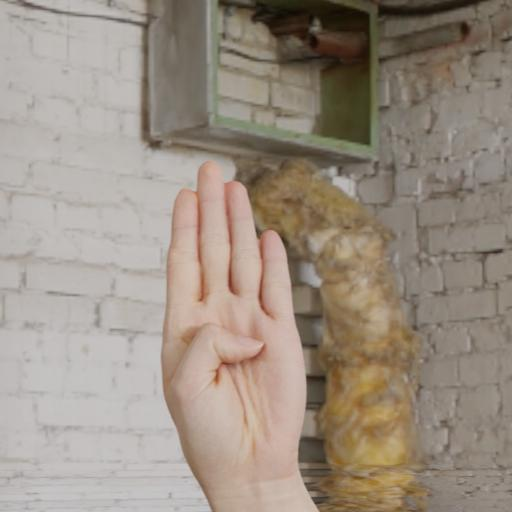B: (133, 146, 343, 512)
